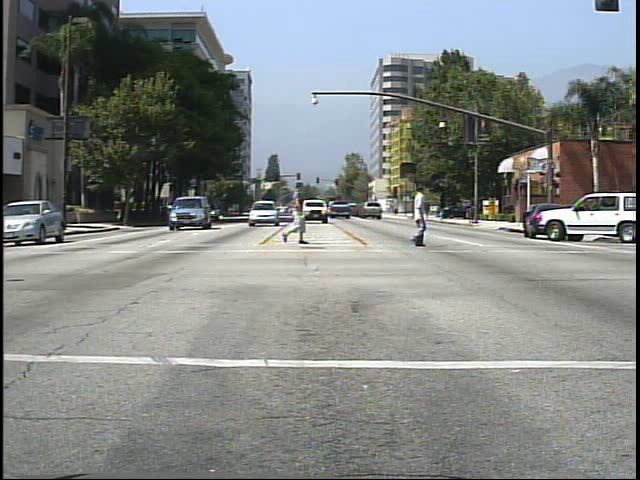person: (400, 176, 436, 254), (278, 175, 315, 249)
